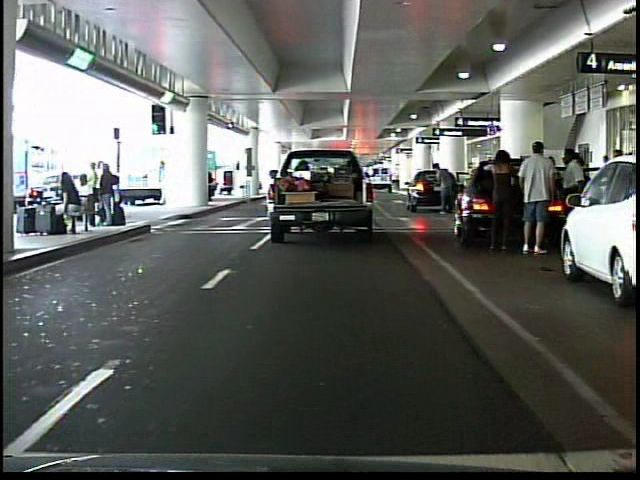person: (516, 138, 558, 257), (480, 138, 519, 259), (556, 143, 593, 257), (431, 157, 456, 220), (155, 160, 171, 206)
